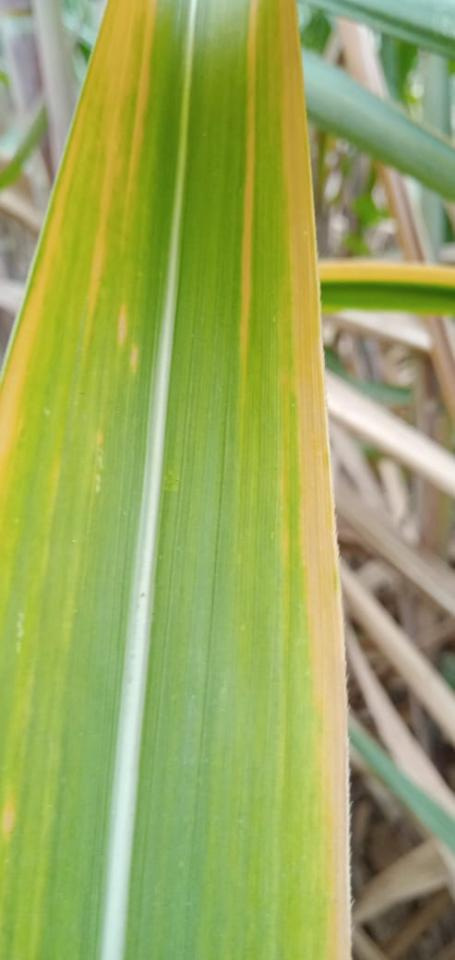Yellow: (0, 0, 156, 499), (276, 0, 351, 959), (241, 0, 257, 375), (318, 259, 454, 285), (3, 800, 17, 837), (118, 305, 128, 347), (130, 346, 138, 372)
